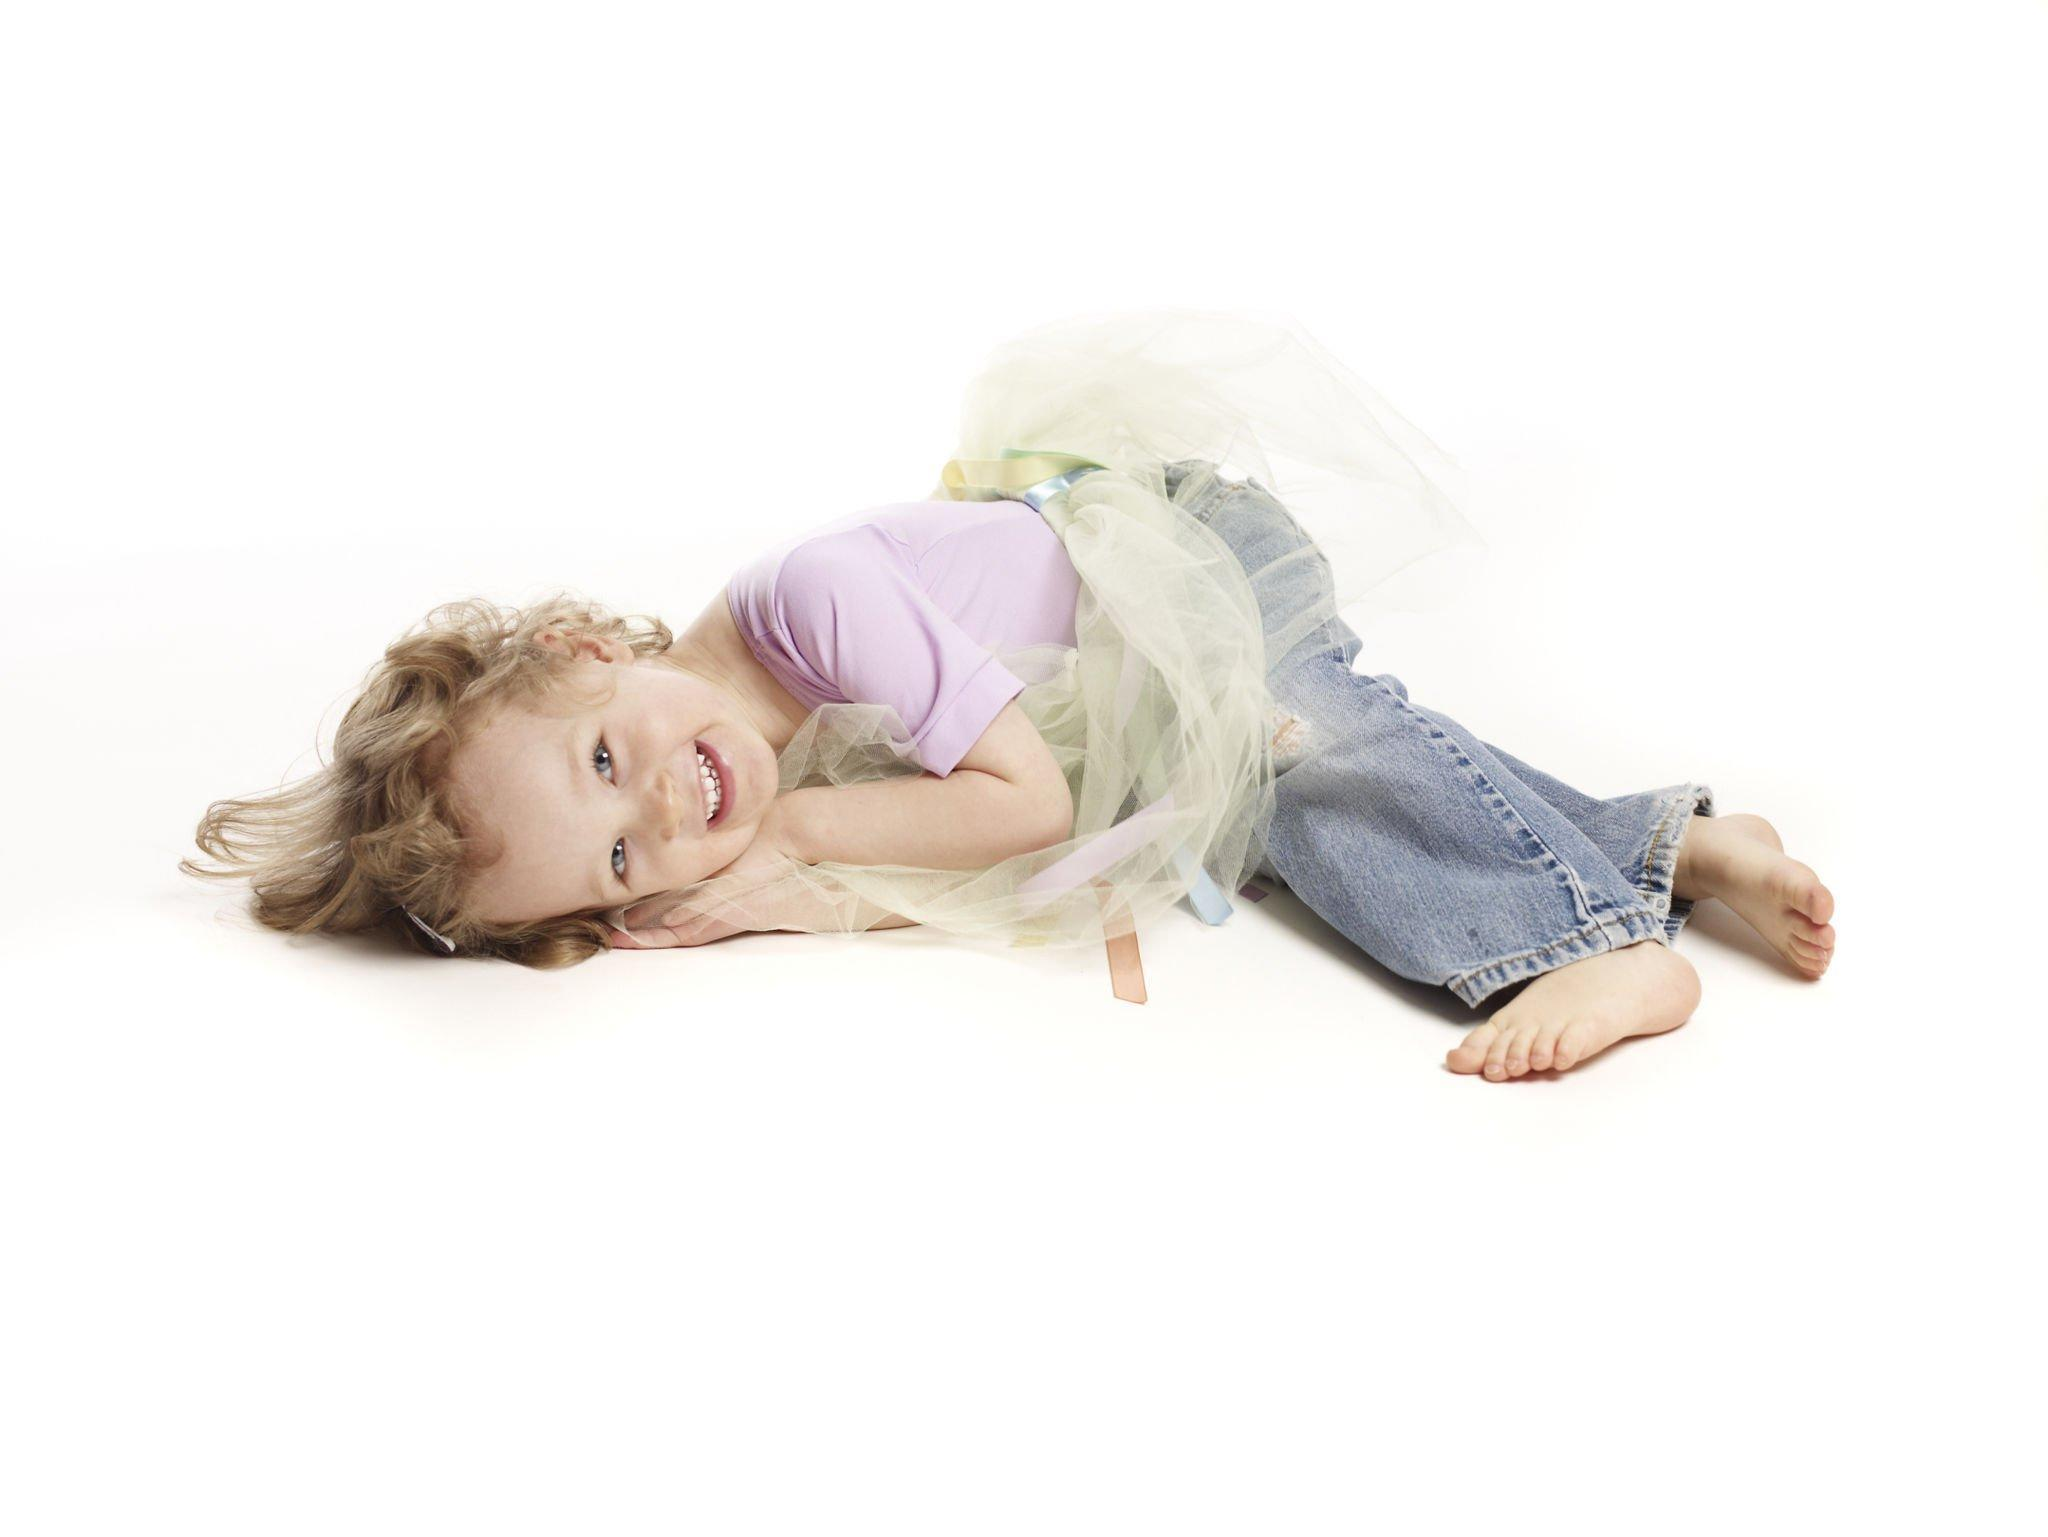Healthy: (397, 636, 792, 951)
